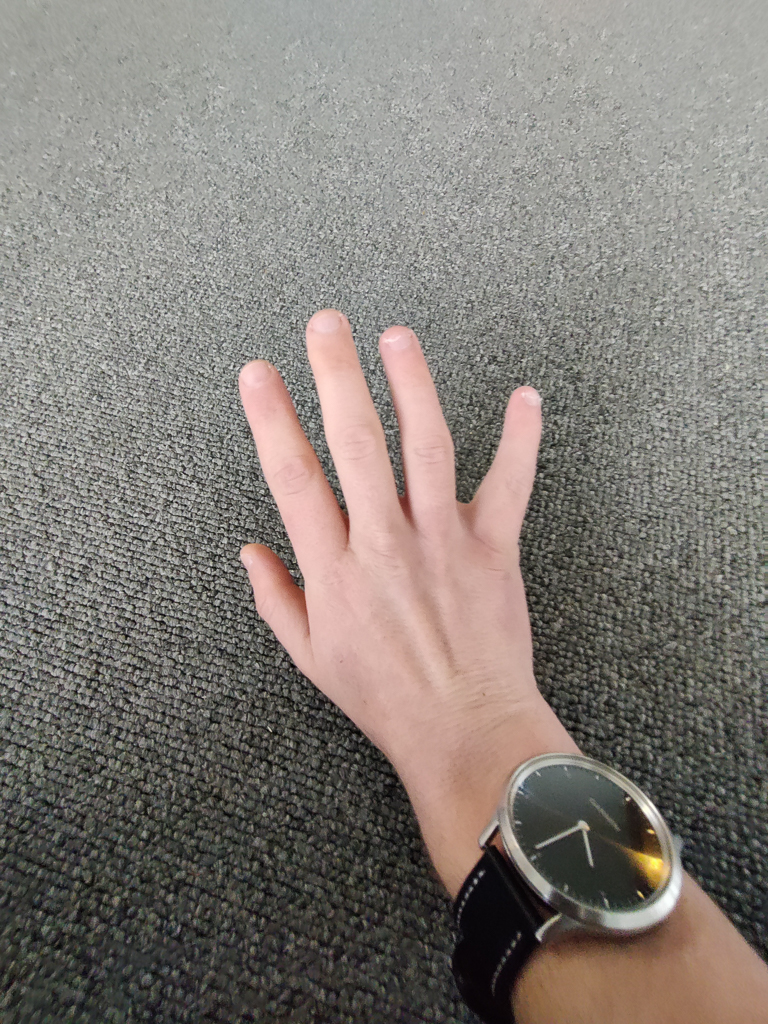Humanoid: (187, 301, 768, 1024)
